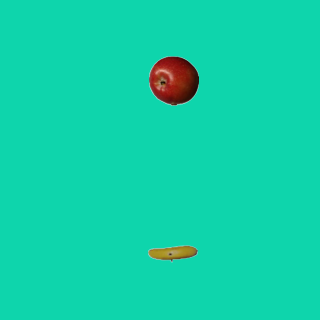Apple Braeburn: (148, 55, 198, 105)
Banana: (147, 228, 197, 278)
